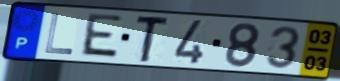3: (264, 25, 302, 71)
4: (171, 18, 206, 66)
8: (225, 22, 262, 69)
E: (77, 12, 125, 61)
L: (43, 11, 75, 57)
T: (134, 16, 173, 64)
